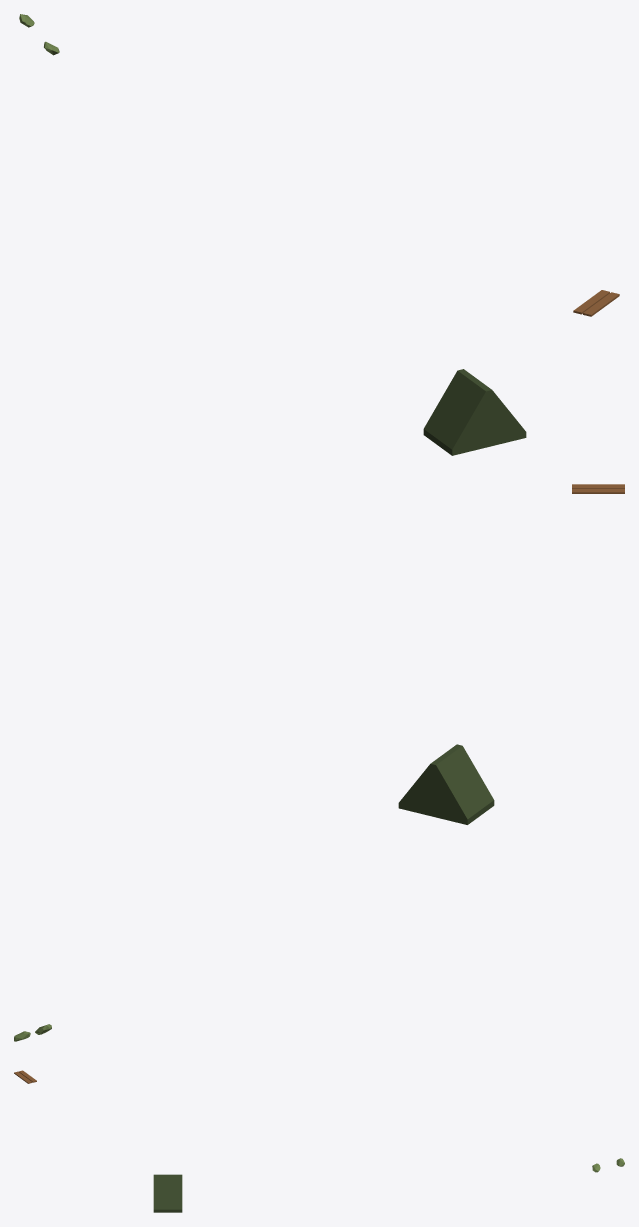
3 renders of one model, top to bottom at view 1: azimuth 30°, elevation 25°; view 2: azimuth 150°, elevation 25°; view 3: azimuth 270°, elevation 25°, orthographic. The views are drawn at different scales.
Parts seen in each view (by area): view 1: Object202_roof1_0, Plane378_brown_0; view 2: Object202_roof1_0; view 3: Object202_roof1_0.
Boxes of the visible parts, <box> form: Object202_roof1_0: <box>423,369,526,455</box>; Plane378_brown_0: <box>573,290,619,316</box>; Object202_roof1_0: <box>398,744,494,824</box>; Object202_roof1_0: <box>153,1174,182,1212</box>.
Size of the model in its own units: 370 by 1029 by 4683.
